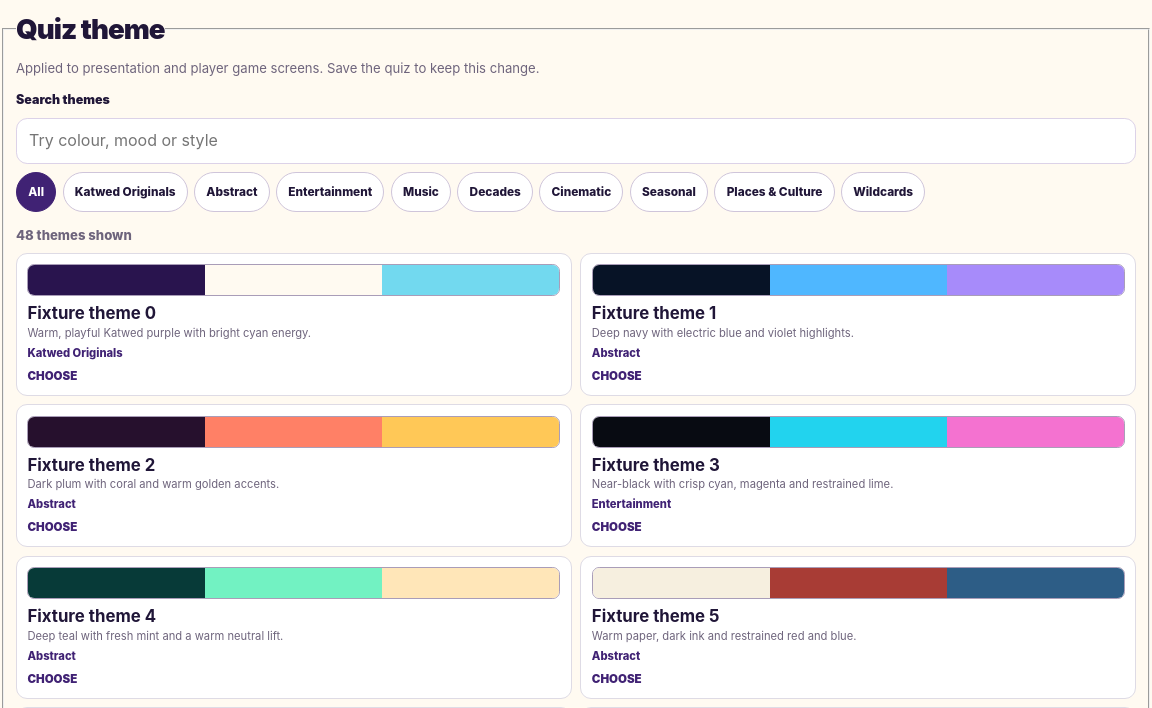
Test: ThemeBrowser › remains searchable with a large catalogue fixture
expect the text "48 themes shown" is shown: met, box [16,227,132,243]
Type "fixture-keyword-37" into the search field labelled "Search themes" at coordinates (576, 140), box [16,118,1136,164]
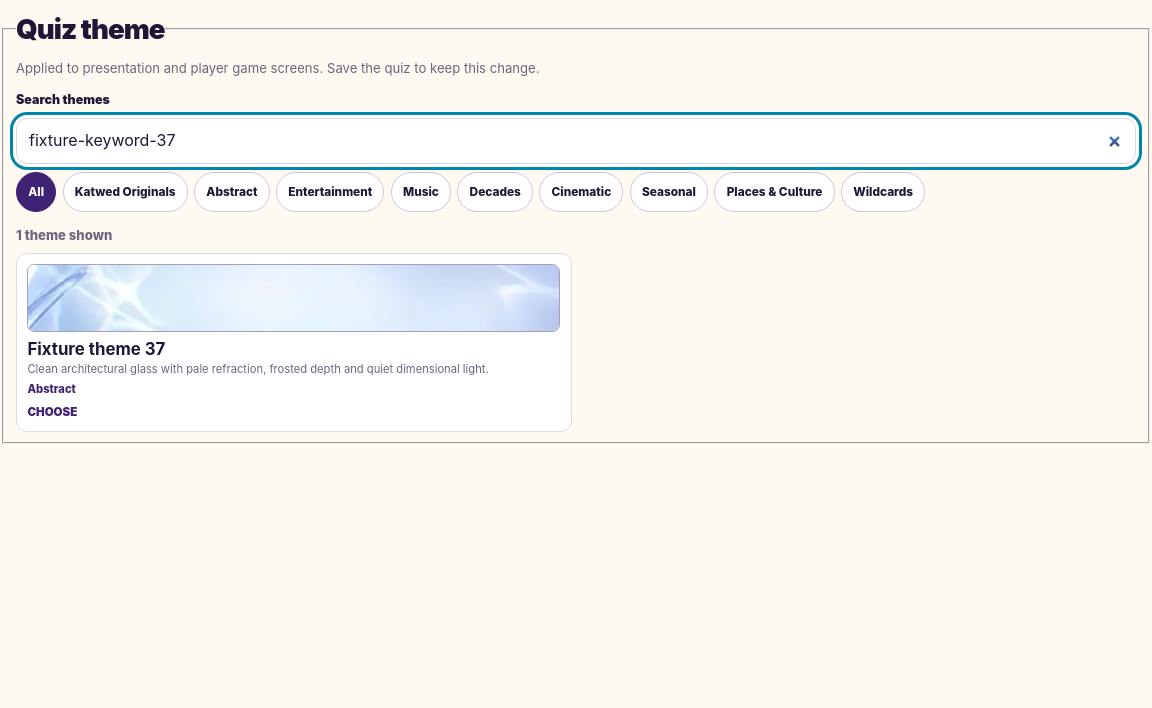
expect the button "Fixture theme 37" is shown: met, box [16,253,572,432]
expect the text "1 theme shown" is shown: met, box [16,227,112,243]
